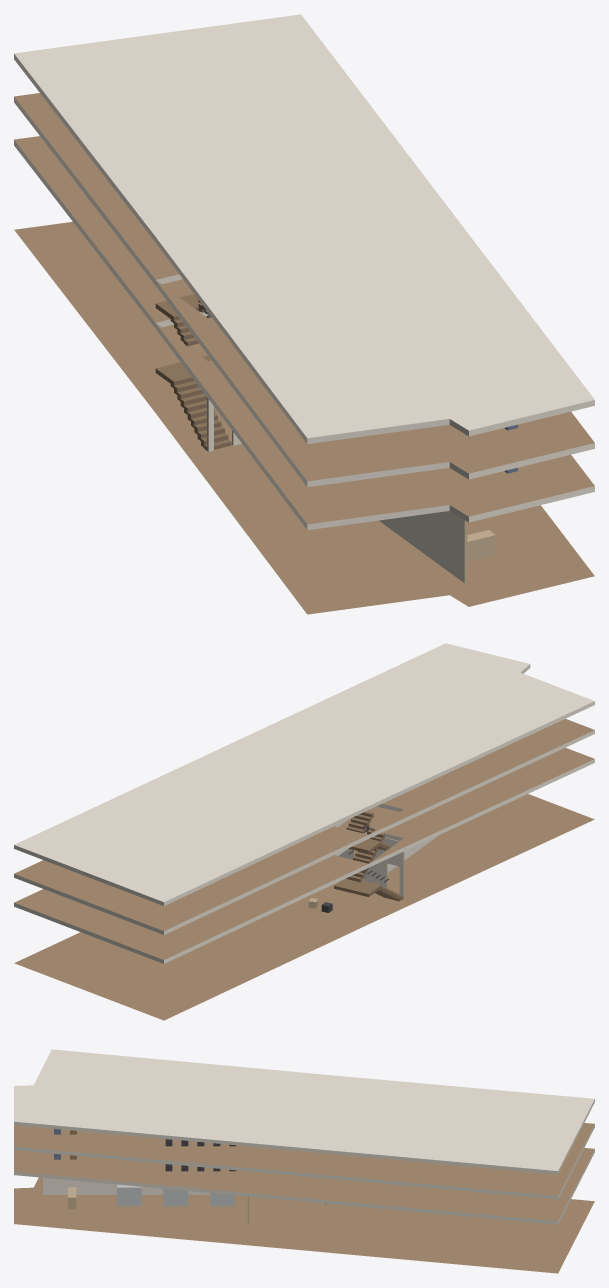
The model's file is interior.glb.
3 views of the same model, one above another, from view 1: azimuth 30°, elevation 25°; view 2: azimuth 150°, elevation 25°; view 3: azimuth 270°, elevation 25° (orthographic). The views are drawn at different scales.
Parts seen in each view (by area): view 1: slabs, partitions, stair, coarse-s0; view 2: slabs, stair, partitions; view 3: slabs, coarse-s0, partitions.
Boxes of the visible parts, x1,y1,x2,y2 form: slabs: (14, 14, 594, 614); partitions: (207, 397, 467, 583); stair: (155, 294, 231, 450); coarse-s0: (467, 530, 495, 561); slabs: (14, 643, 594, 1020); stair: (334, 811, 403, 901); partitions: (338, 835, 438, 898); slabs: (14, 1049, 594, 1273); coarse-s0: (68, 1184, 332, 1209); partitions: (43, 1177, 249, 1223).
Bounding box in the file's own units: 19.84 × 7.8 × 40.
